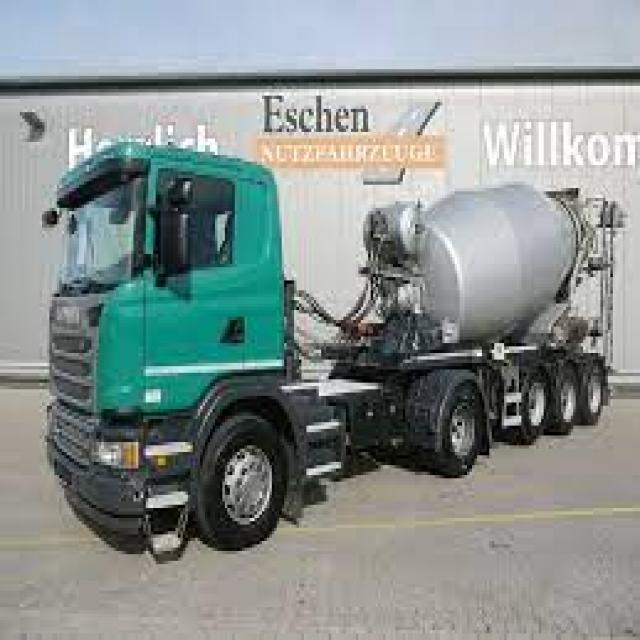Mixer Truck: (39, 141, 626, 561)
